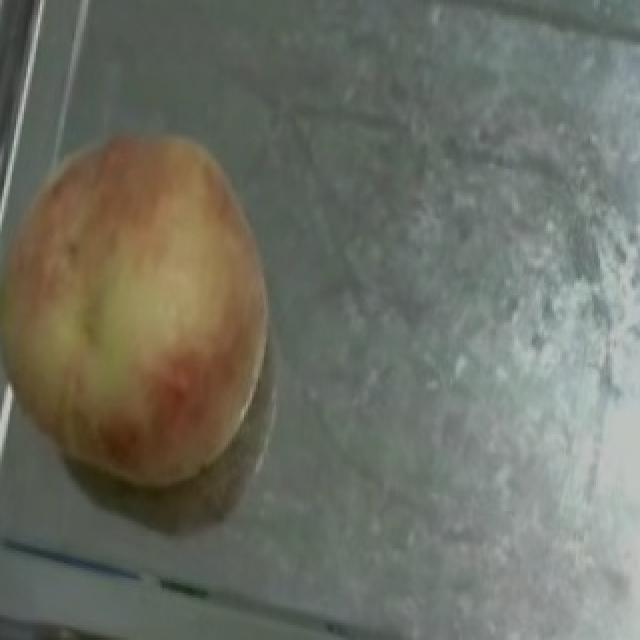Fruit: (0, 100, 300, 410)
